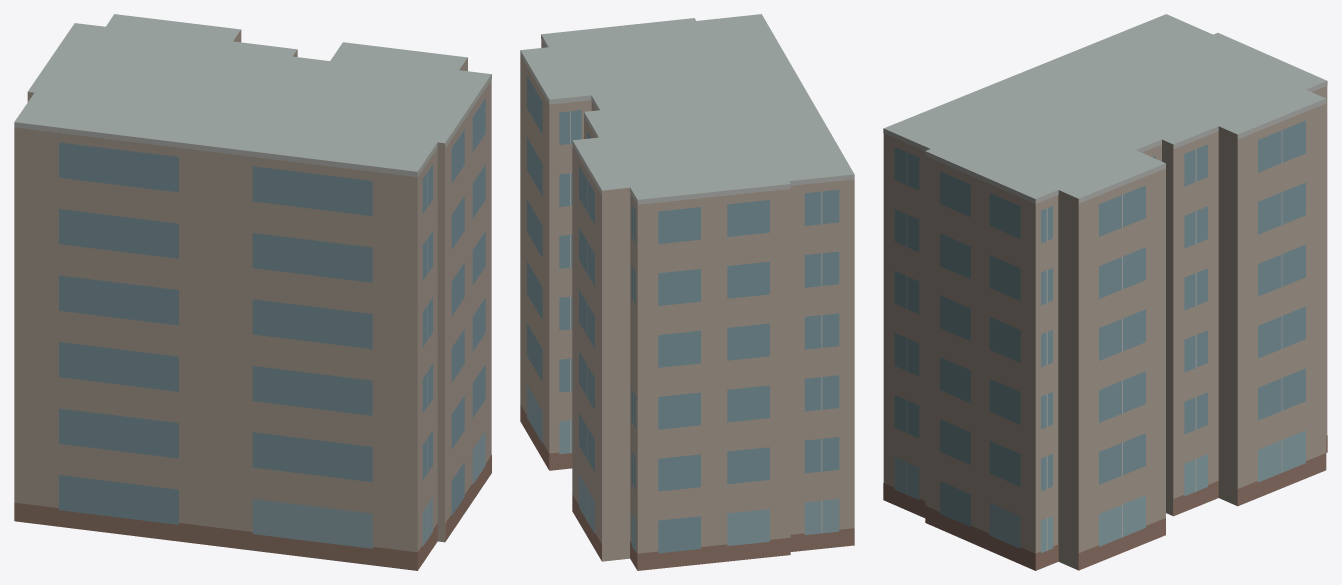
File: survey-upis-32753615.glb
3 views of the same model, side by side, from view 1: azimuth 30°, elevation 25°; view 2: azimuth 150°, elevation 25°; view 3: azimuth 270°, elevation 25° (orthographic). The views are drawn at different scales.
Visible parts, largest first — view 1: survey-upis-32753615.tmp; view 2: survey-upis-32753615.tmp; view 3: survey-upis-32753615.tmp.
Part boxes in pixels (<box>): survey-upis-32753615.tmp: <box>14,14,491,570</box>; survey-upis-32753615.tmp: <box>520,14,854,570</box>; survey-upis-32753615.tmp: <box>883,14,1327,570</box>.
Size of the model in its own units: 19.55 by 18.3 by 19.81.
